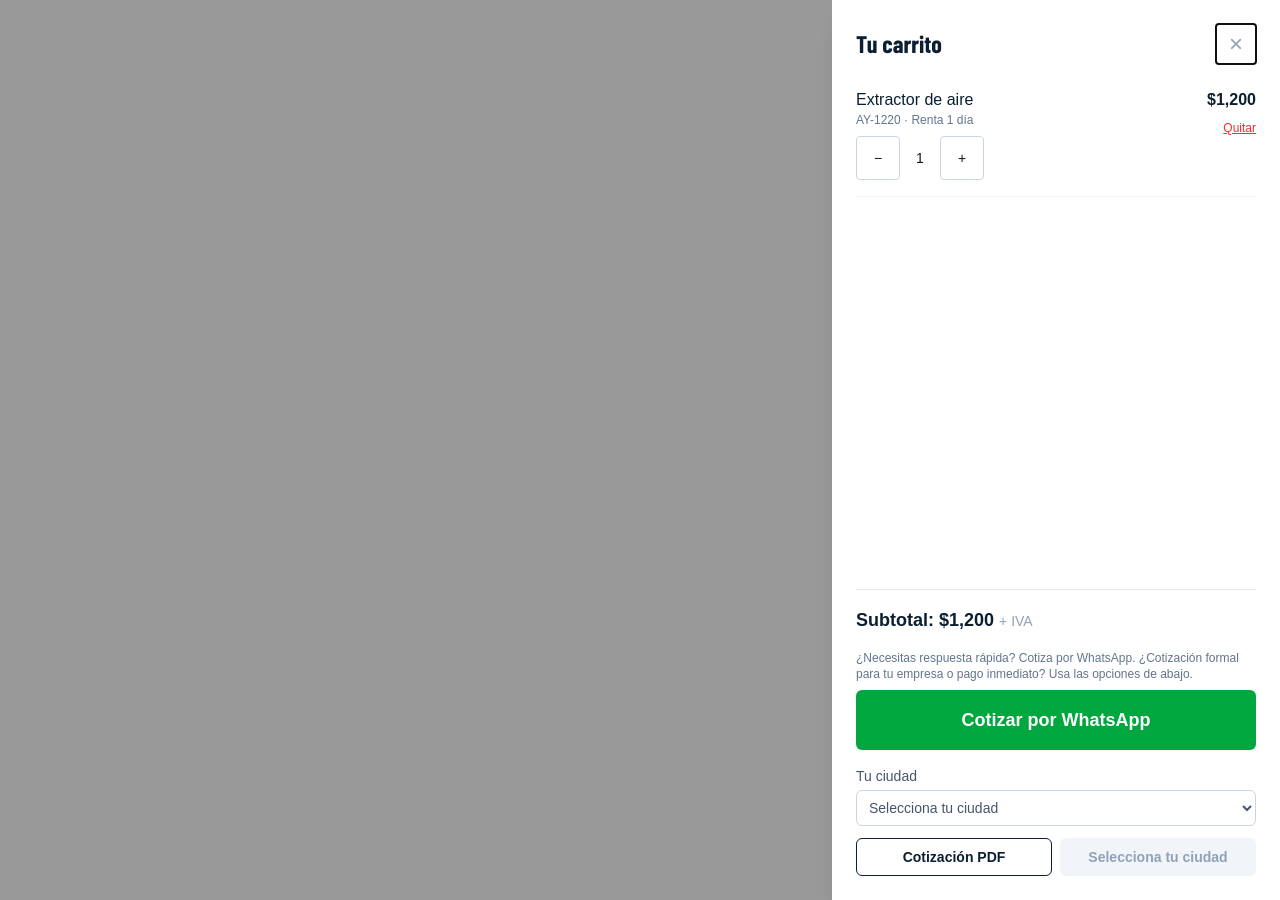
Test: Carrito › quita el producto y muestra el carrito vacío
Click the button "Quitar".
click(1240, 128)  # box top-left (1223, 120), bottom-right (1256, 136)
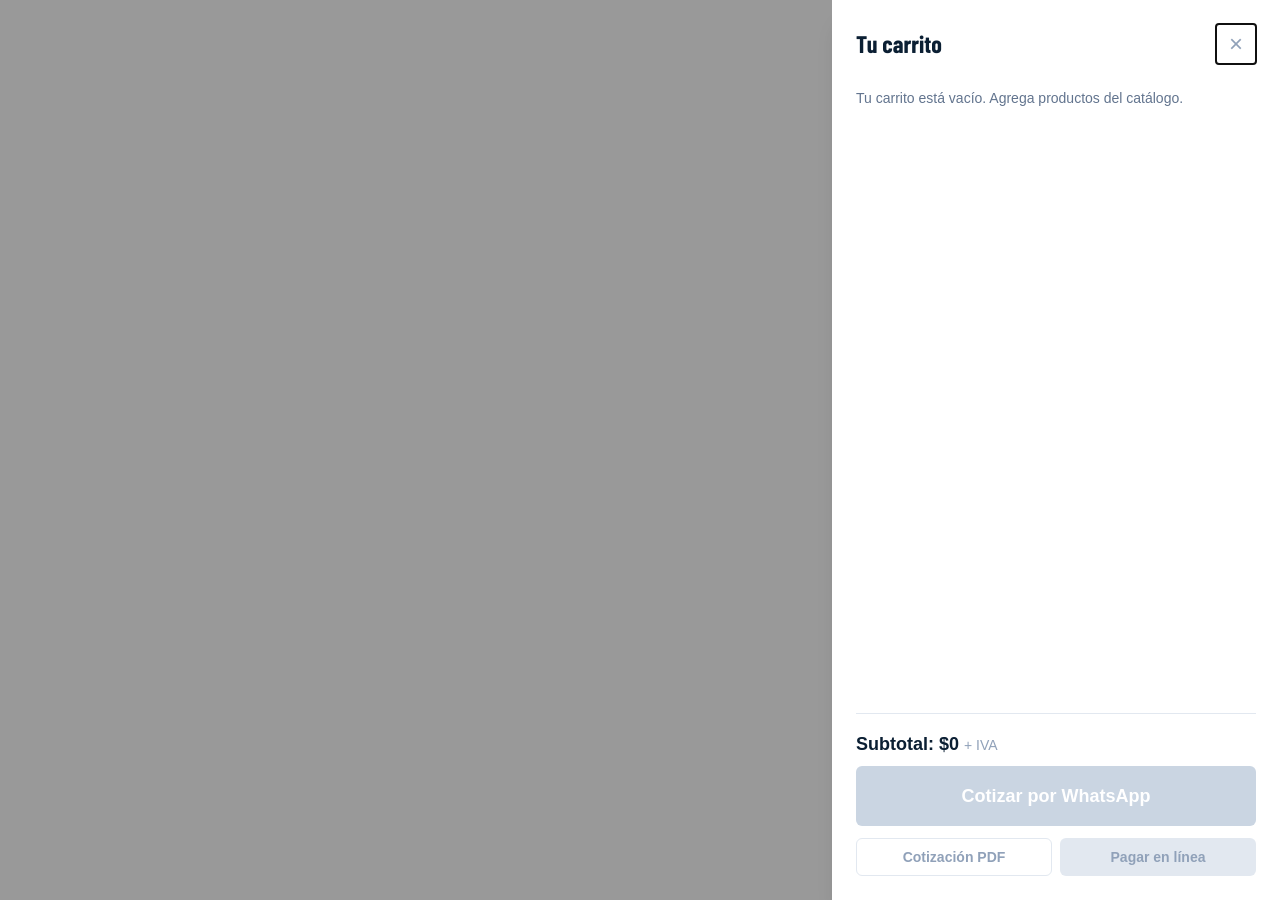
Check: the text "Tu carrito está vacío. Agrega productos del catálogo." is shown, box top-left (856, 90), bottom-right (1183, 106)
